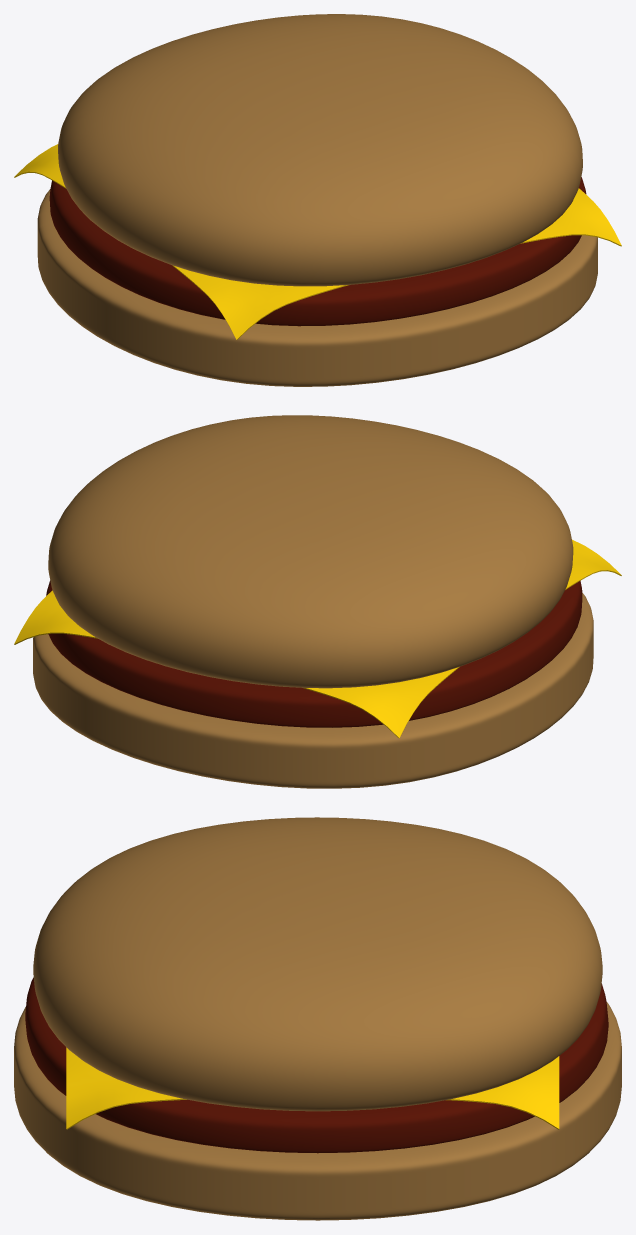
File: hamburger.glb
3 renders of one model, top to bottom at view 1: azimuth 30°, elevation 25°; view 2: azimuth 150°, elevation 25°; view 3: azimuth 270°, elevation 25°, orthographic. The views are drawn at different scales.
Parts seen in each view (by area): view 1: Cube.002, Cube, Cube.001, Plane; view 2: Cube.002, Cube, Cube.001, Plane; view 3: Cube.002, Cube, Cube.001, Plane.
Part boxes in pixels (left/top/right/bottom): Cube.002: left=58, top=14, right=582, bottom=286; Cube: left=37, top=189, right=597, bottom=386; Cube.001: left=49, top=177, right=586, bottom=326; Plane: left=14, top=144, right=621, bottom=339; Cube.002: left=48, top=415, right=573, bottom=688; Cube: left=33, top=593, right=593, bottom=788; Cube.001: left=46, top=580, right=582, bottom=727; Plane: left=14, top=539, right=621, bottom=738; Cube.002: left=33, top=817, right=602, bottom=1111; Cube: left=14, top=1001, right=621, bottom=1220; Cube.001: left=25, top=977, right=608, bottom=1153; Plane: left=66, top=1047, right=559, bottom=1129.
Bounding box in the file's own units: 9.02 × 3.64 × 9.02.
